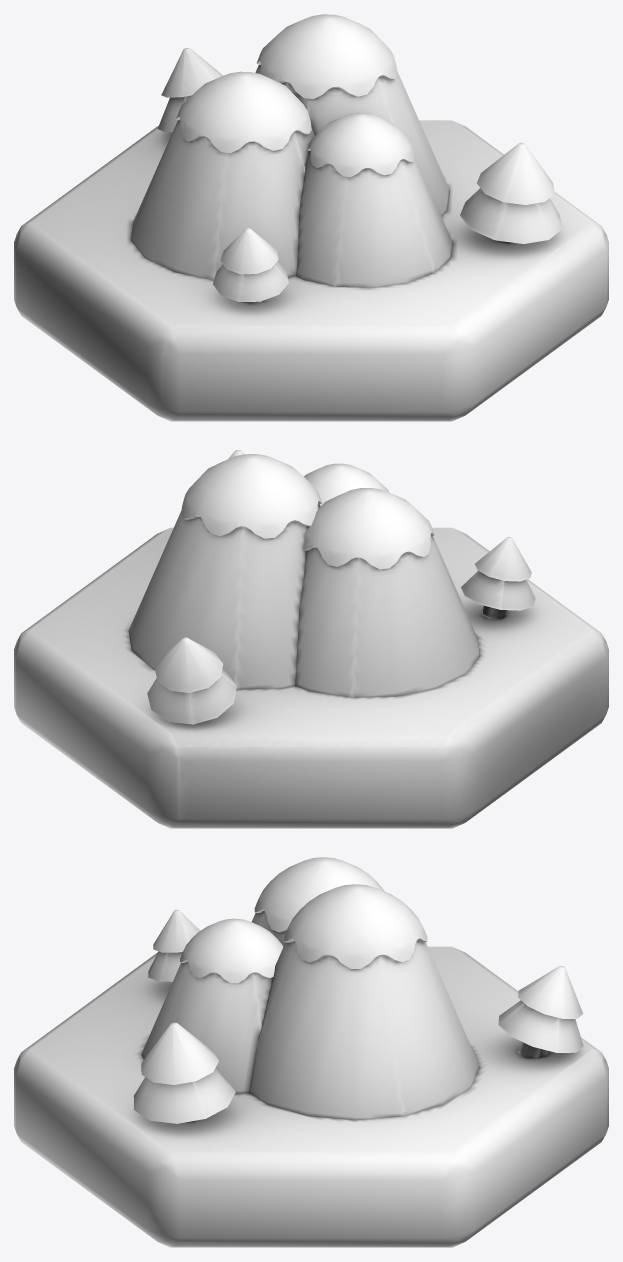
File: 1_rocks_bake.dae
3 views of the same model, one above another, from view 1: azimuth 30°, elevation 25°; view 2: azimuth 150°, elevation 25°; view 3: azimuth 270°, elevation 25° (orthographic).
Visible parts, largest first — view 1: gory, czapy; view 2: gory, czapy; view 3: gory, czapy.
Part boxes in pixels (bbox=[...]): gory: bbox=[14, 48, 608, 421]; czapy: bbox=[176, 14, 414, 177]; gory: bbox=[14, 450, 608, 828]; czapy: bbox=[181, 454, 434, 569]; gory: bbox=[14, 909, 608, 1247]; czapy: bbox=[180, 857, 427, 983].
Bounding box in the file's own units: 1 × 1.13 × 0.5755.
